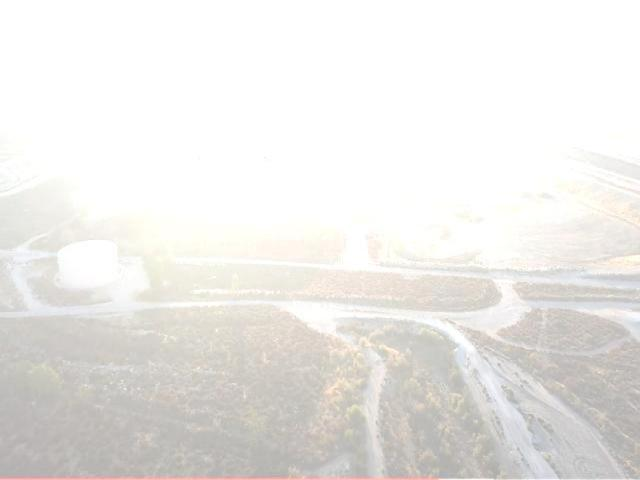iha: (198, 140, 267, 164)
